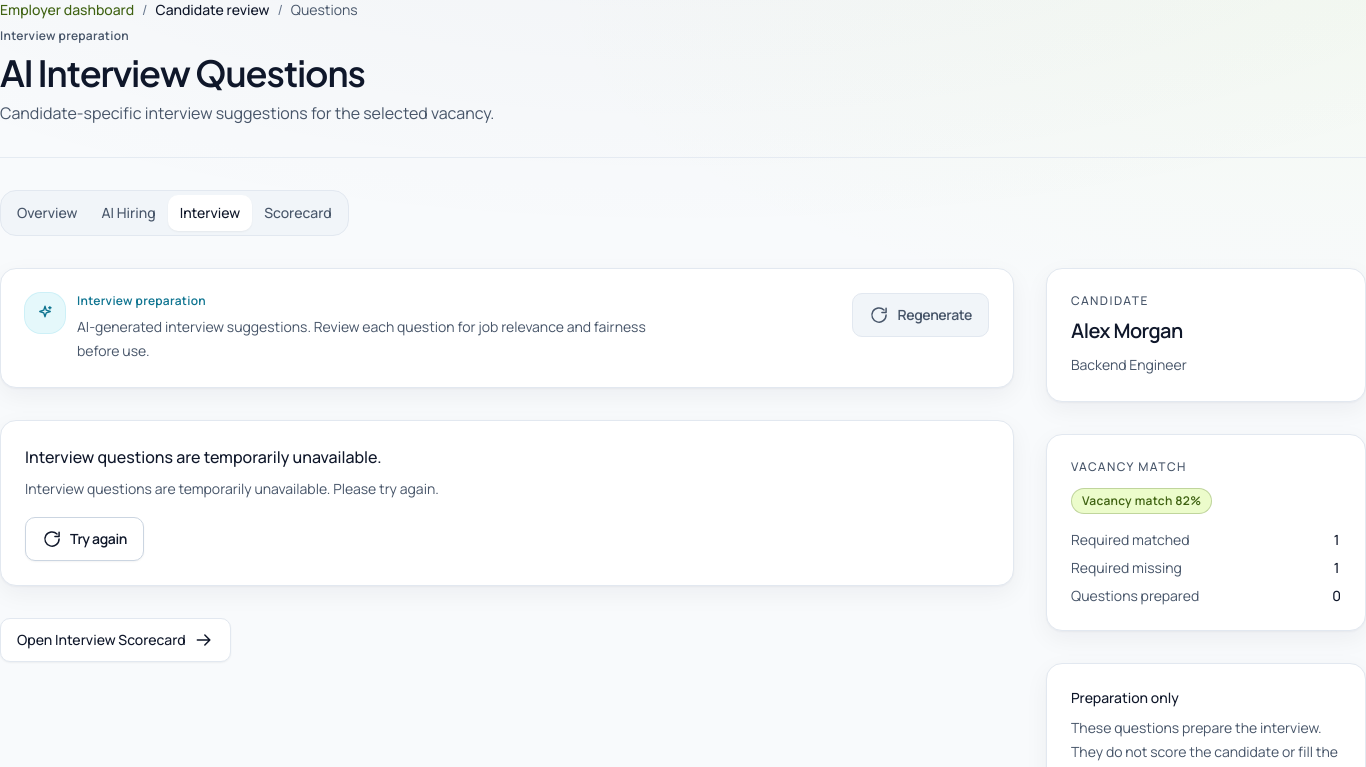
it: InterviewQuestionsWorkspace › shows a safe provider error and retries with the normal request
Expected: the text "Interview questions are temporarily unavailable." is shown, x1=25 y1=446 x2=382 y2=468
Expected: the button "Regenerate" is disabled, x1=852 y1=293 x2=989 y2=337
Step 1. Click the button "Try again" → coordinates (85, 539), box x1=25 y1=517 x2=144 y2=561
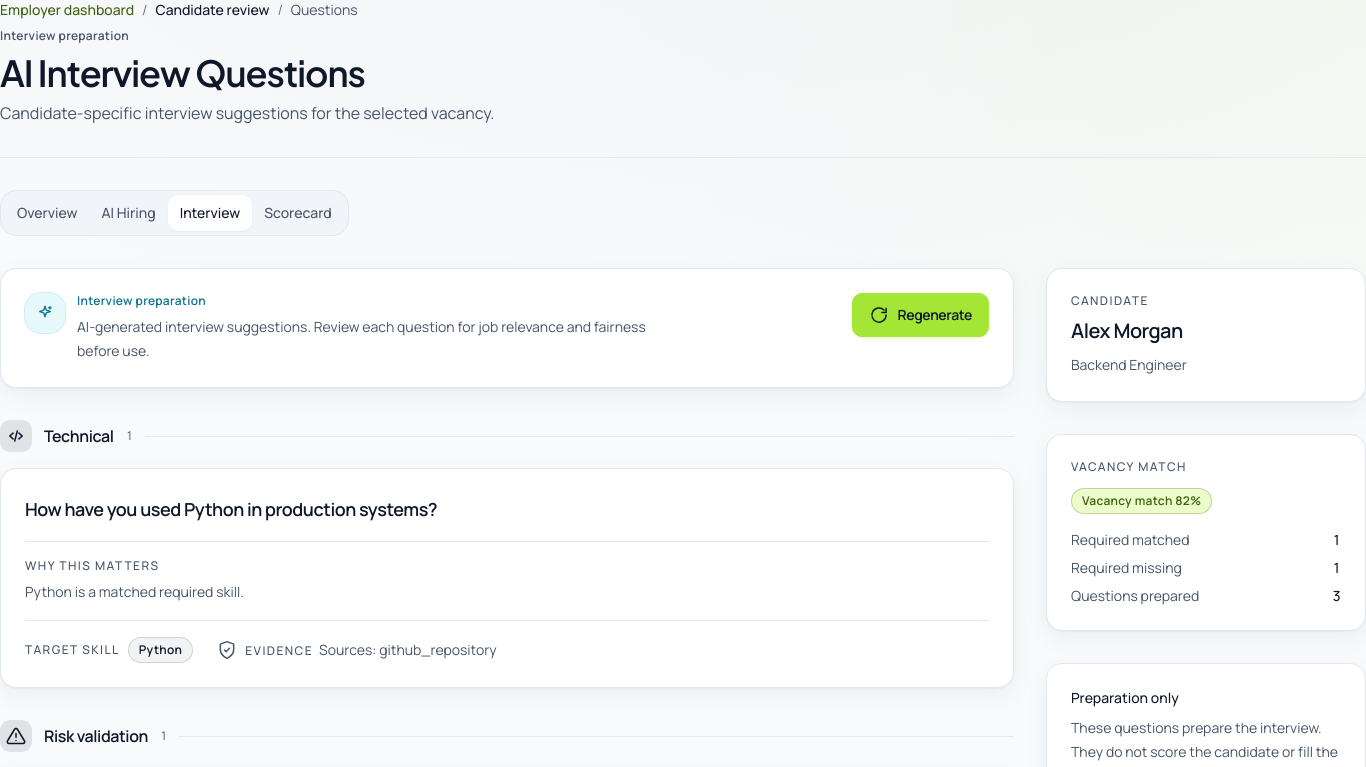
Now the text "How have you used Python in production systems?" is shown, box x1=25 y1=497 x2=437 y2=521
